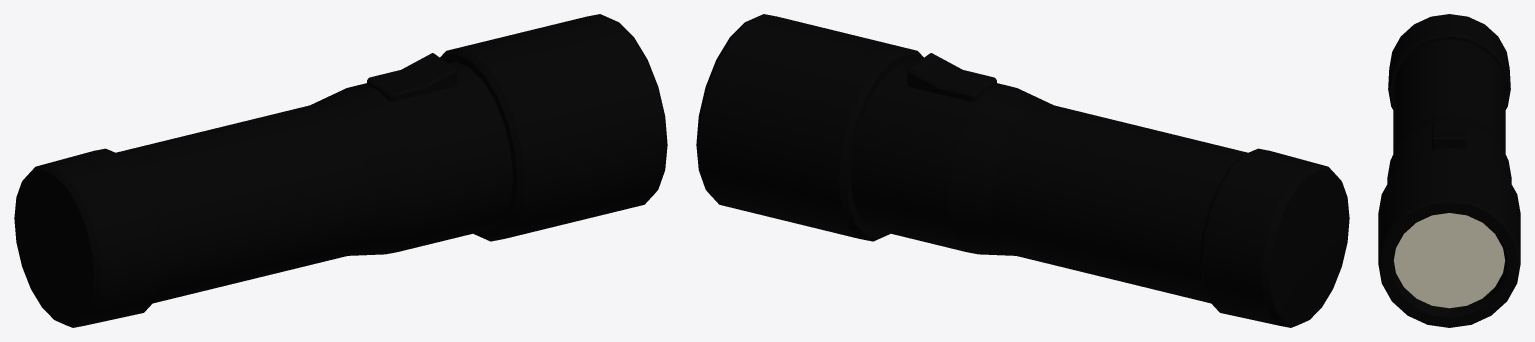
The model's file is torch.fbx.
3 views of the same model, side by side, from view 1: azimuth 30°, elevation 25°; view 2: azimuth 150°, elevation 25°; view 3: azimuth 270°, elevation 25° (orthographic). The views are drawn at different scales.
Parts seen in each view (by area): view 1: Torch, Button; view 2: Torch, Button; view 3: Torch, Light, Button.
Part boxes in pixels (x1,y1,x2,y2): Torch: (14, 14, 667, 327); Button: (367, 53, 456, 101); Torch: (696, 14, 1349, 327); Button: (907, 53, 996, 101); Torch: (1378, 14, 1520, 327); Light: (1393, 213, 1505, 308); Button: (1432, 121, 1466, 149).
Bounding box in the file's own units: 8.35 × 2.56 × 2.53.
